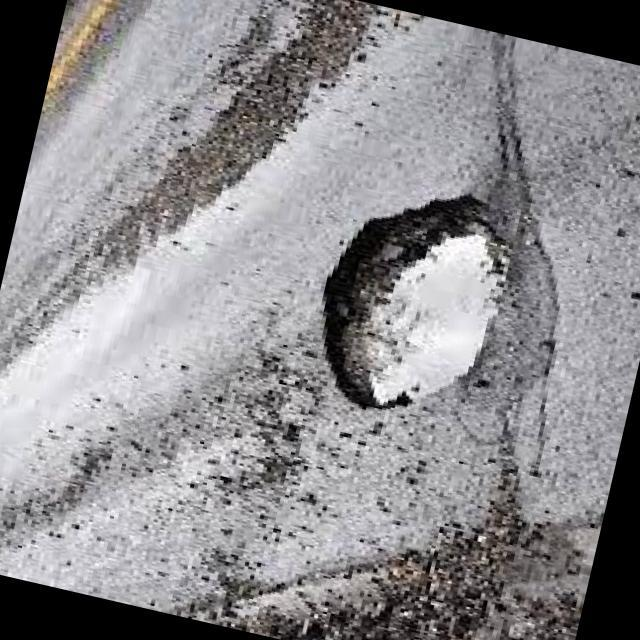pothole: (289, 159, 533, 450)
